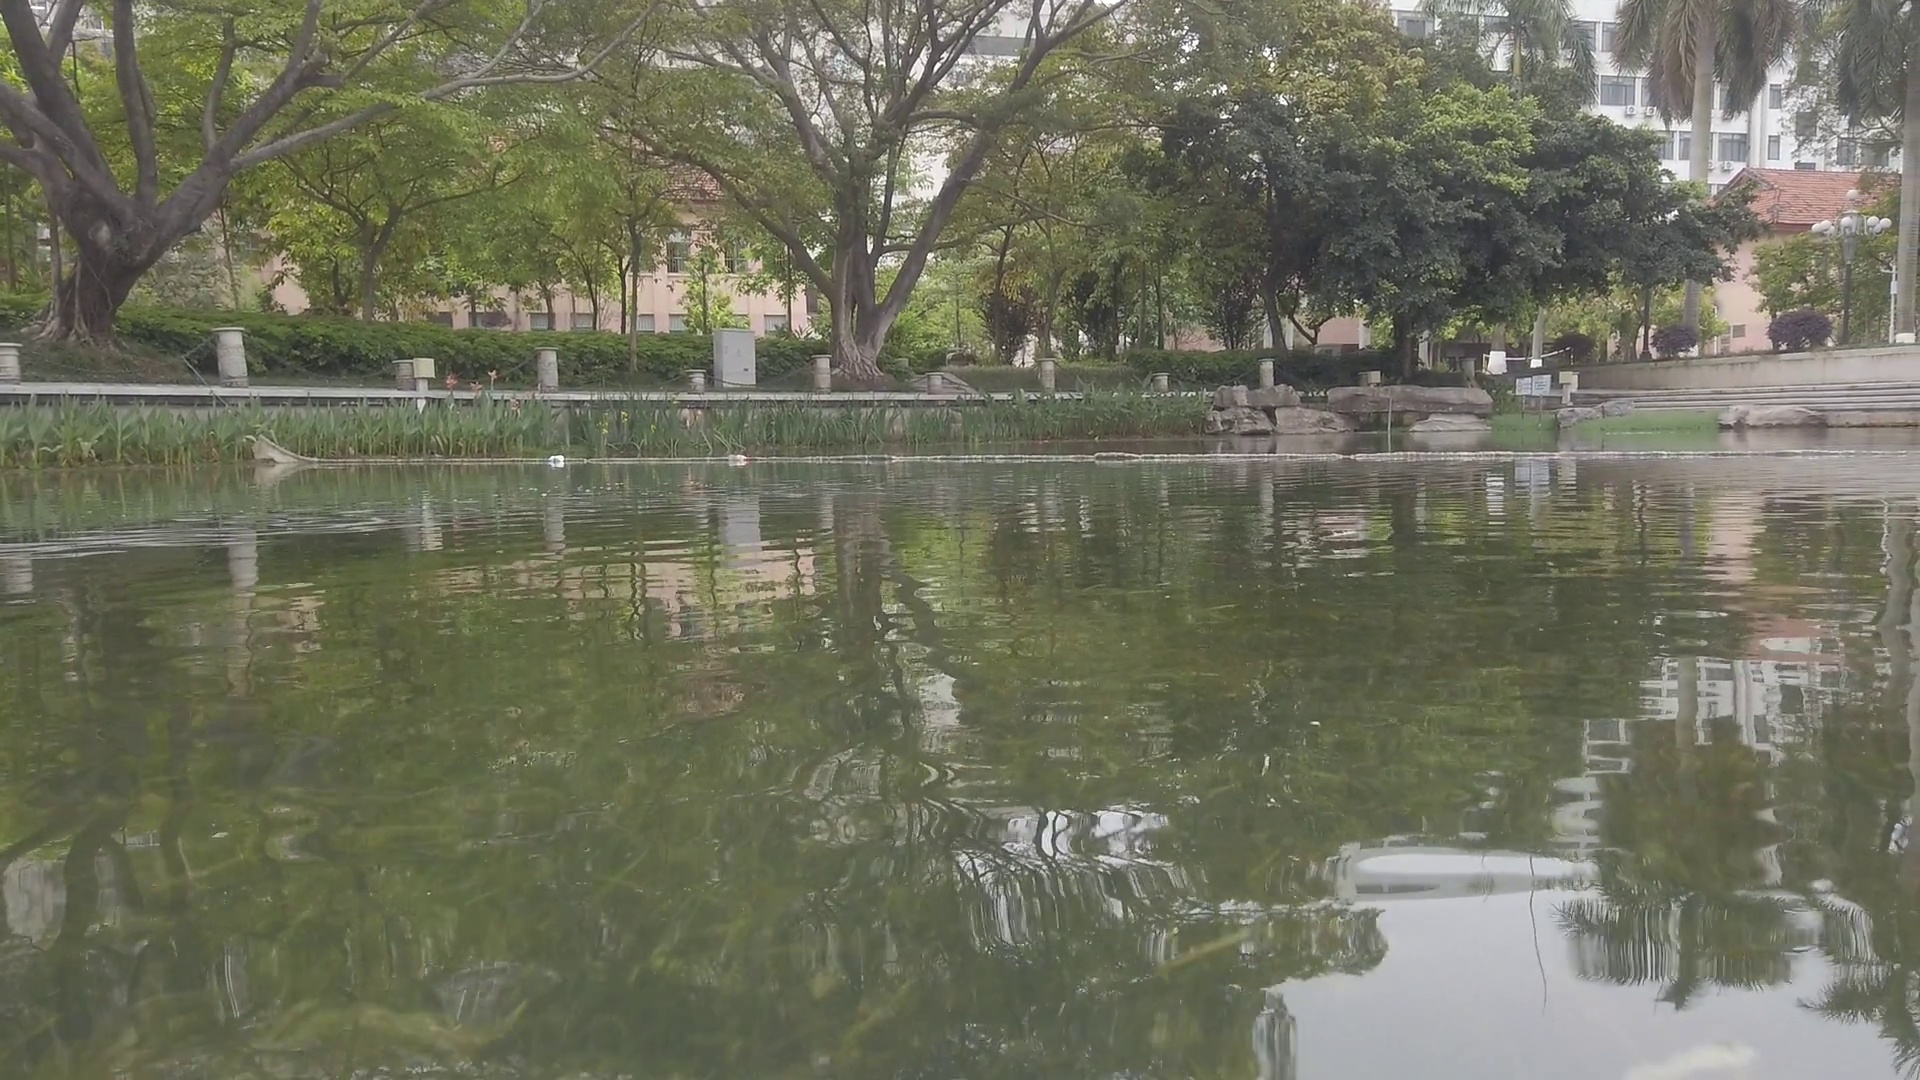bottle: (546, 455, 564, 464), (728, 455, 748, 463)
